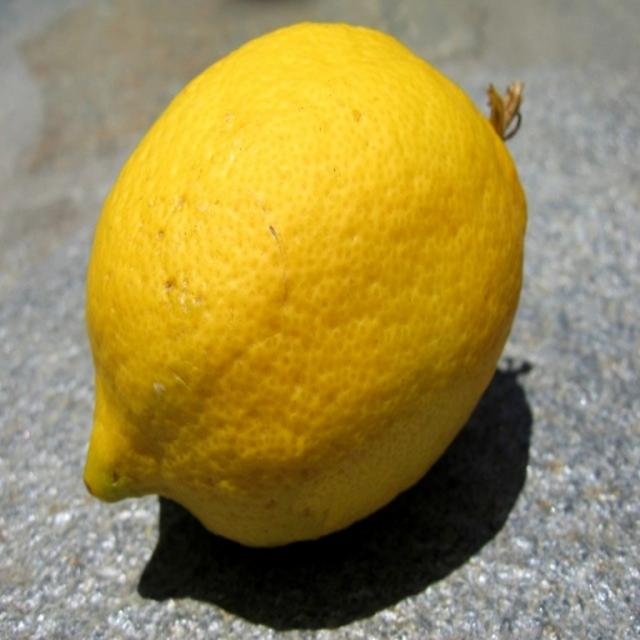Orange: (88, 15, 523, 544)
